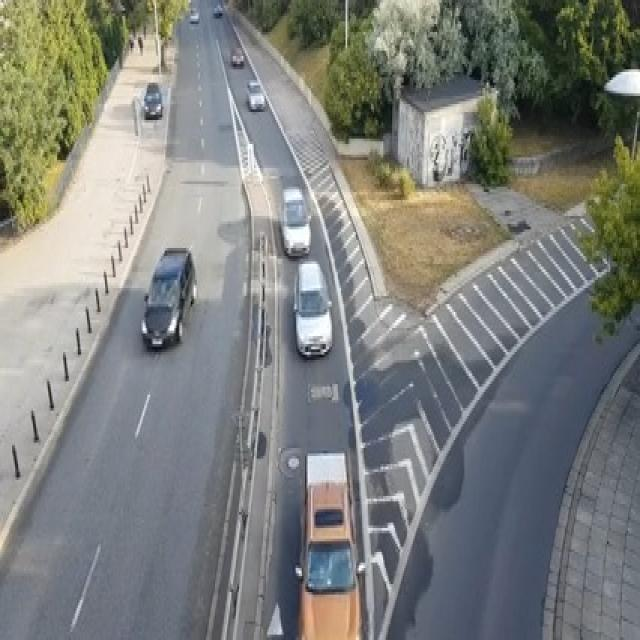bus: (293, 448, 362, 637)
car: (140, 246, 197, 350), (293, 259, 332, 357), (278, 184, 311, 256), (143, 80, 162, 117), (247, 78, 264, 110), (230, 45, 243, 67), (190, 6, 198, 22), (214, 3, 222, 16)
